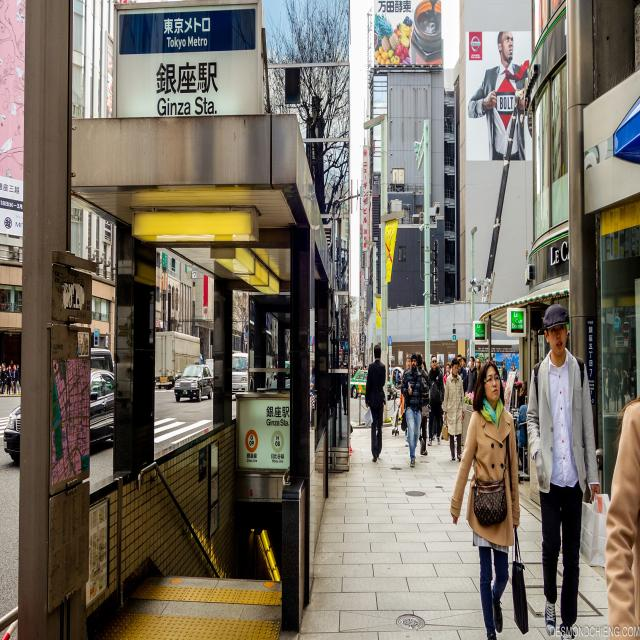body: (525, 299, 603, 640), (448, 356, 530, 640), (602, 359, 640, 638), (468, 31, 530, 161), (400, 352, 423, 468), (364, 344, 386, 463), (442, 356, 466, 462), (426, 353, 445, 447), (415, 353, 431, 456), (516, 395, 528, 474), (402, 355, 412, 447), (0, 354, 22, 395), (91, 374, 102, 435), (398, 370, 408, 437), (338, 358, 349, 416), (456, 353, 468, 398), (466, 355, 478, 394), (348, 362, 368, 385), (432, 406, 444, 441), (309, 361, 314, 430), (421, 358, 430, 391), (517, 380, 527, 408), (462, 356, 469, 388), (443, 362, 452, 386), (474, 357, 482, 378), (512, 366, 517, 392), (502, 363, 508, 384), (397, 371, 403, 388), (438, 363, 444, 378), (392, 369, 396, 386), (401, 366, 405, 371)
